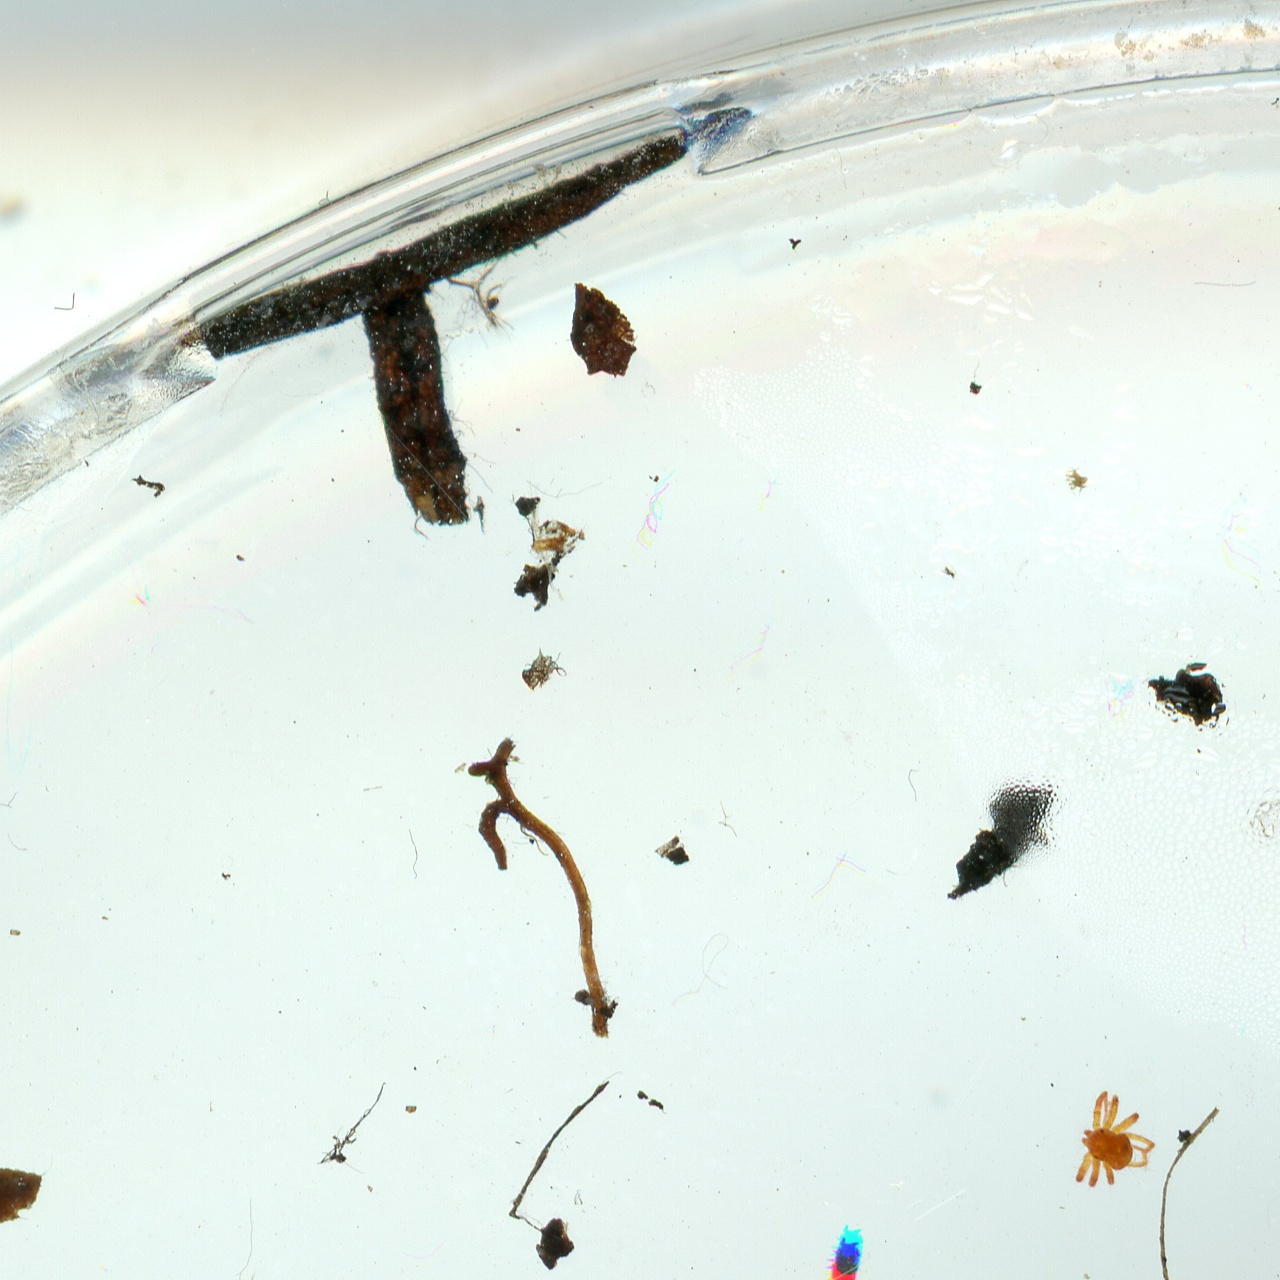arthropod: (1073, 1081, 1159, 1197), (822, 1221, 869, 1280)
